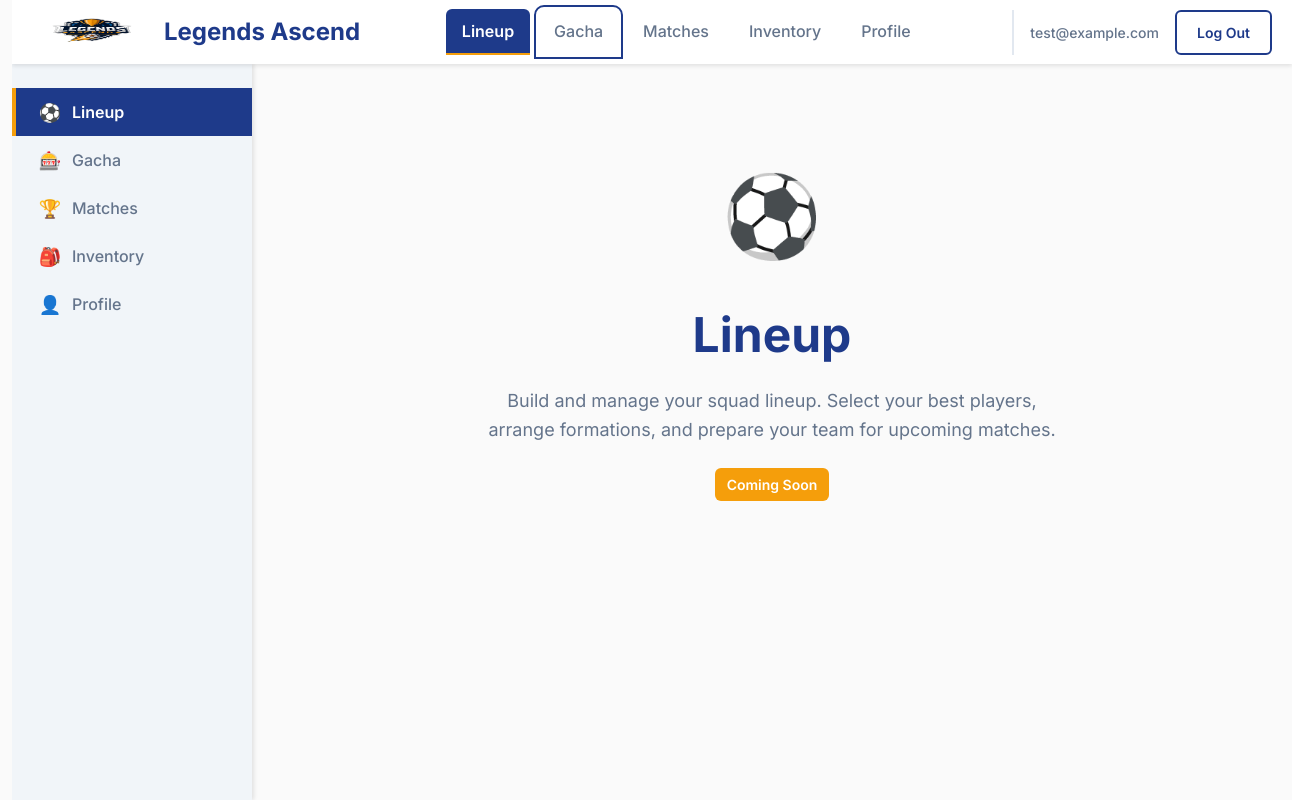
it: Dashboard Acceptance Tests - PR #137 vs User Story #112 › AC-8: Keyboard Navigation Works › should navigate to page when Enter is pressed on focused link
// Press Enter
Step 1. Press Enter in the button "Gacha", box [538, 9, 619, 55]
Step 2. Click the button "Gacha" → (579, 32), box [538, 9, 619, 55]
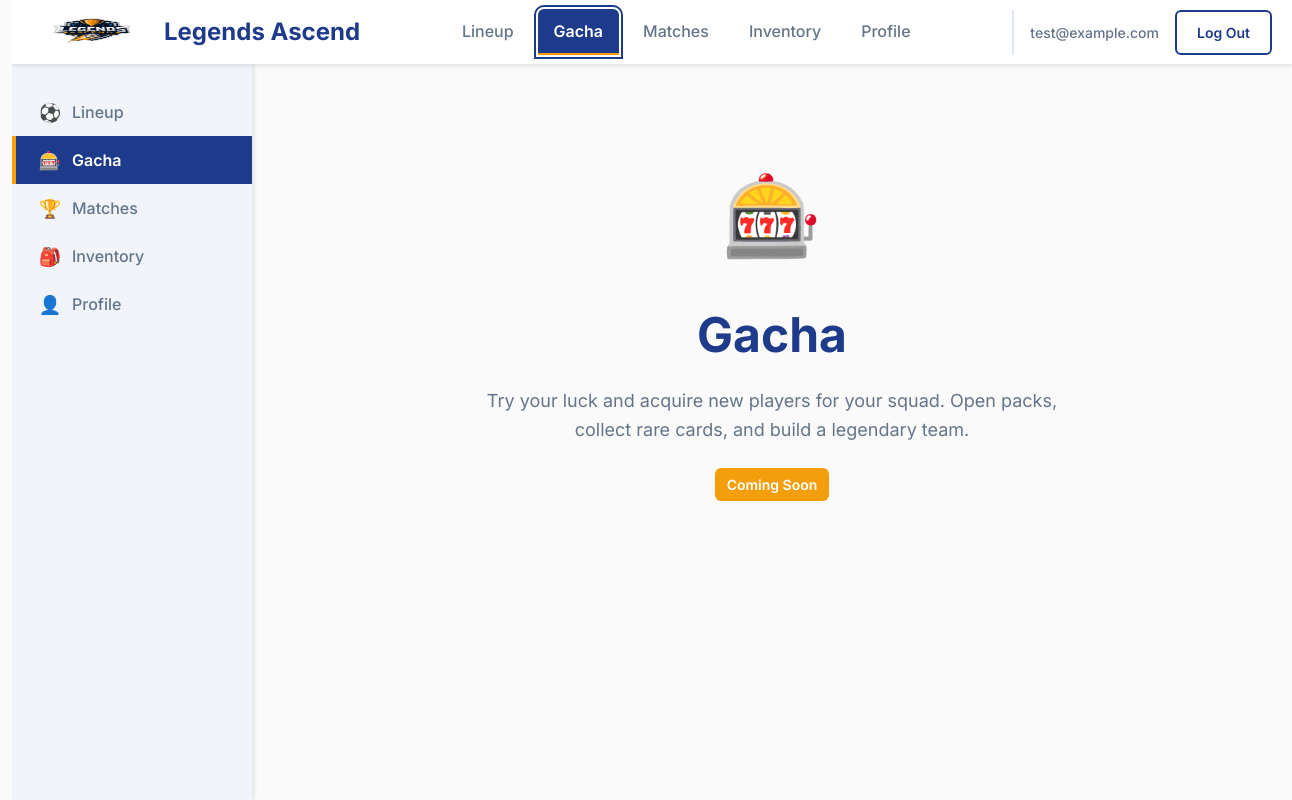
Now the text "Try your luck and acquire new players" is shown, box [487, 390, 1057, 440]
